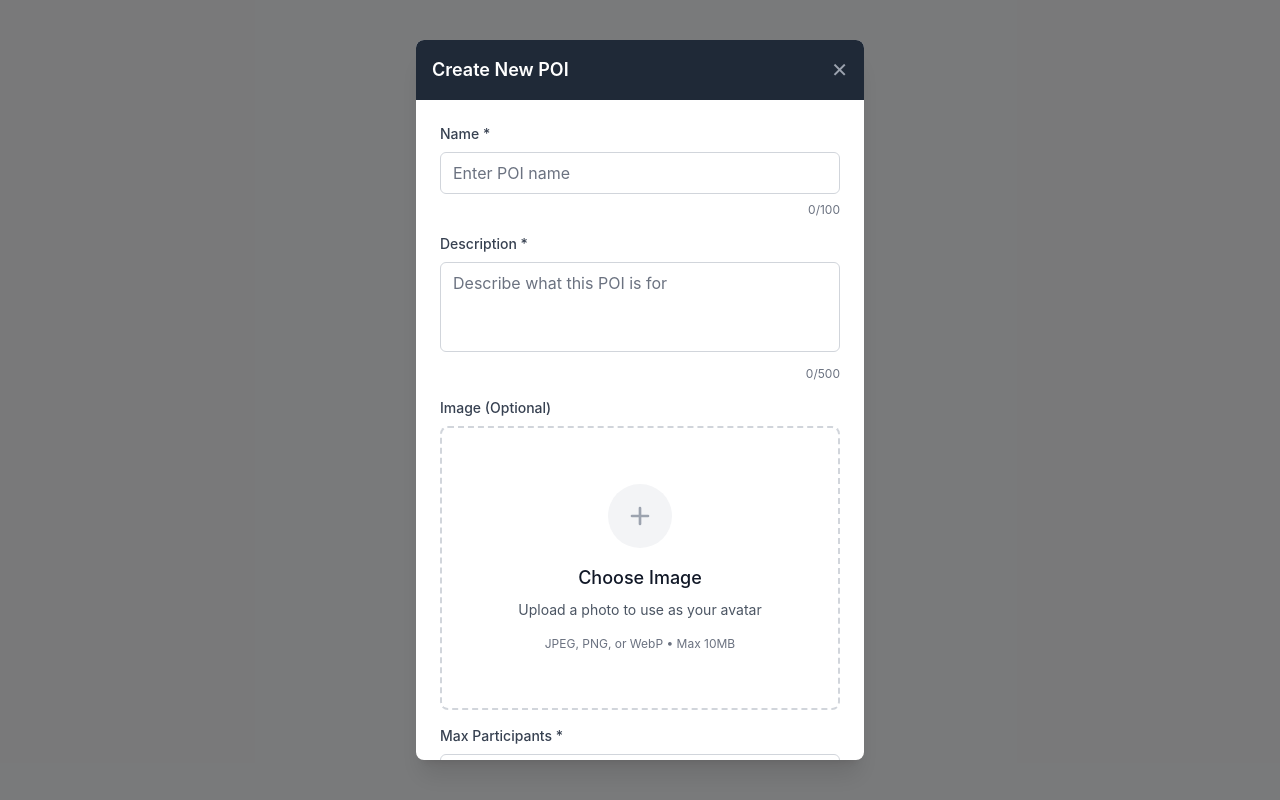
Test case: POICreationModal › should enable create button when form is valid
Note: Fill in valid form data
Step 1. Type "Test POI" into the field labelled "Name *" → (640,173), box [440,152,840,194]
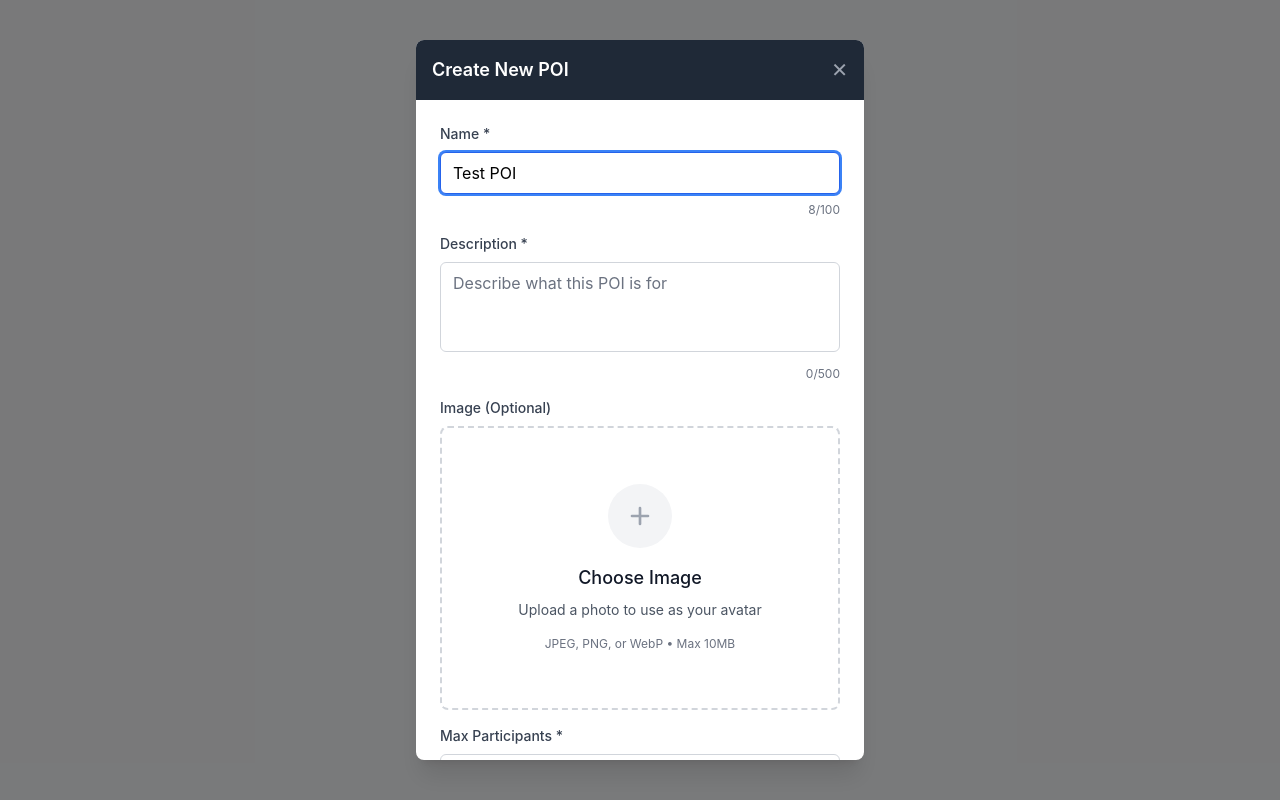
Step 2. Type "Test description" into the text box labelled "Description *" → (640,307), box [440,262,840,352]
(page scrolled)
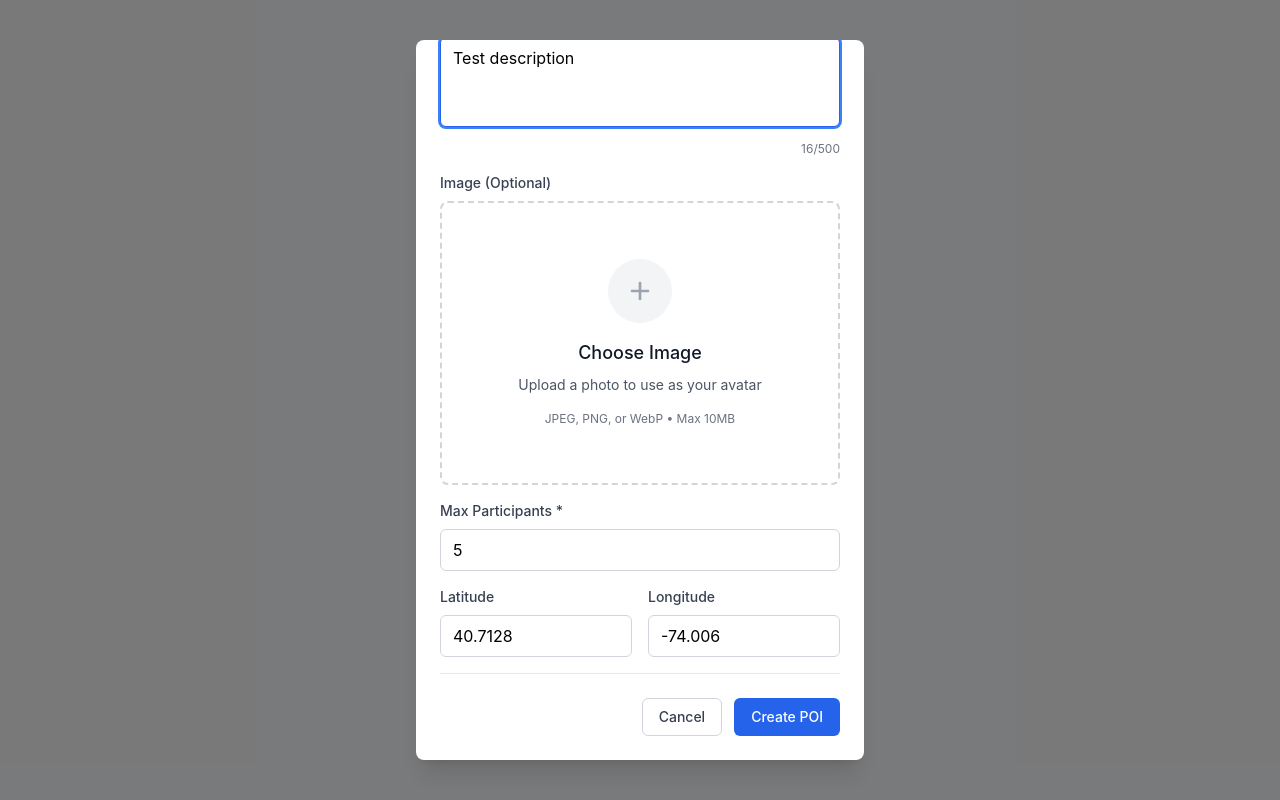
Expected: the button "Create POI" is enabled, [734,698,840,736]
